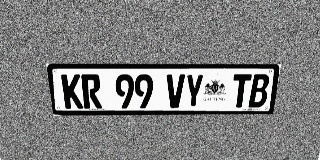9: (115, 74, 135, 108), (134, 74, 153, 108)
B: (248, 74, 270, 107)
K: (61, 74, 83, 109)
R: (81, 74, 102, 109)
T: (230, 74, 252, 108)
V: (166, 74, 185, 108)
Y: (184, 74, 204, 108)
